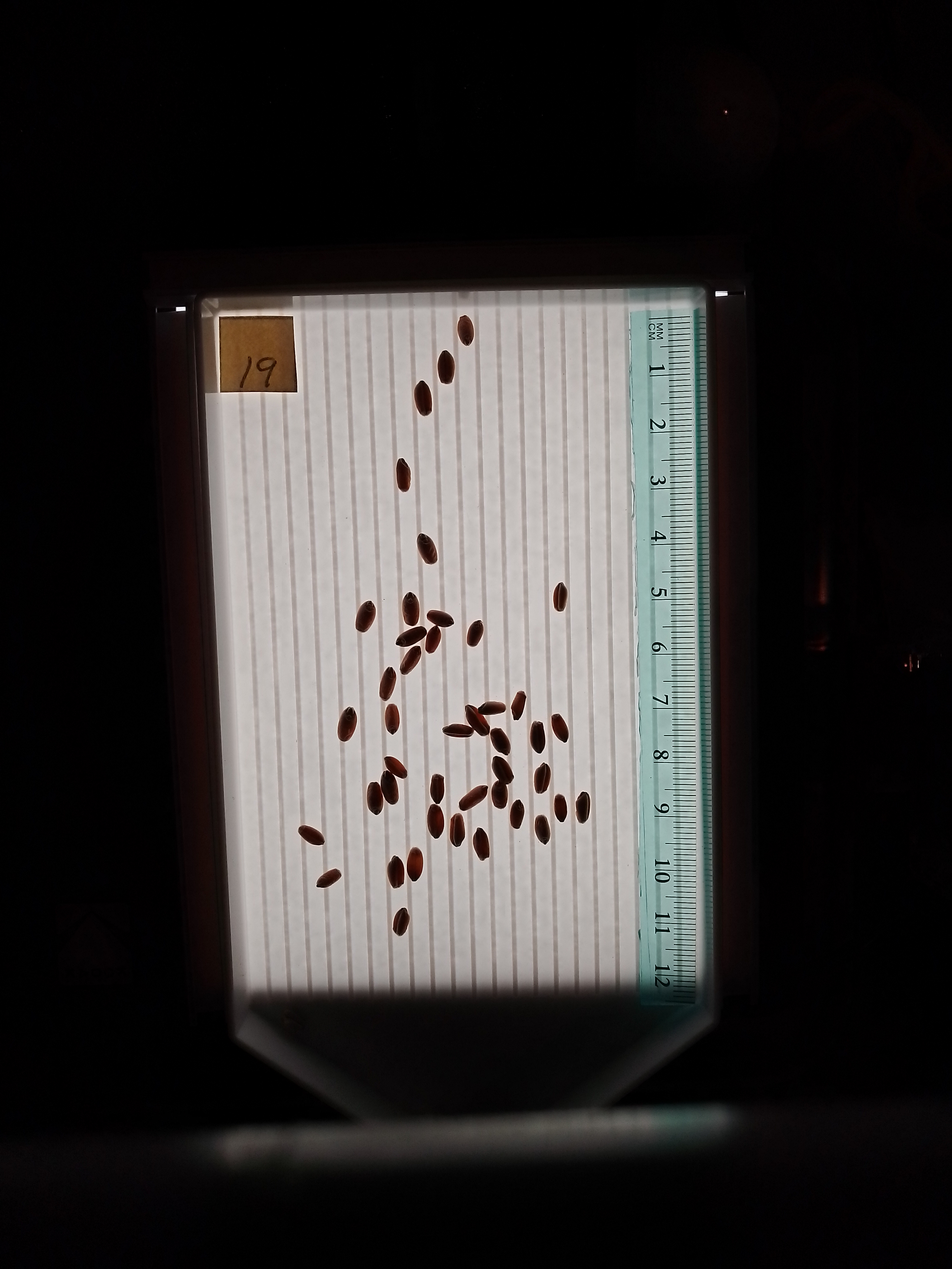seed mask: (459, 786, 487, 810), (466, 706, 489, 735), (417, 533, 438, 564), (338, 708, 357, 742), (356, 601, 376, 633), (397, 626, 426, 647), (427, 805, 445, 838), (414, 381, 431, 415), (402, 593, 420, 625), (298, 824, 324, 846), (400, 647, 421, 674), (492, 757, 513, 784), (381, 773, 399, 804), (387, 857, 405, 888), (407, 849, 424, 881), (367, 783, 384, 814), (380, 668, 396, 700), (438, 352, 454, 384), (534, 763, 551, 793), (384, 756, 407, 778), (575, 792, 591, 823), (530, 722, 546, 753), (396, 460, 412, 491), (450, 814, 465, 847), (491, 728, 510, 754), (474, 830, 490, 860), (458, 316, 474, 346), (552, 715, 569, 742), (317, 869, 341, 888), (510, 800, 525, 829), (385, 704, 400, 733), (393, 909, 409, 936), (491, 782, 507, 809), (428, 611, 453, 628), (467, 621, 484, 646), (535, 815, 550, 843), (444, 723, 472, 738), (425, 628, 441, 654), (553, 583, 567, 612), (511, 692, 526, 719), (553, 795, 567, 822), (431, 775, 445, 802), (479, 701, 505, 715)
